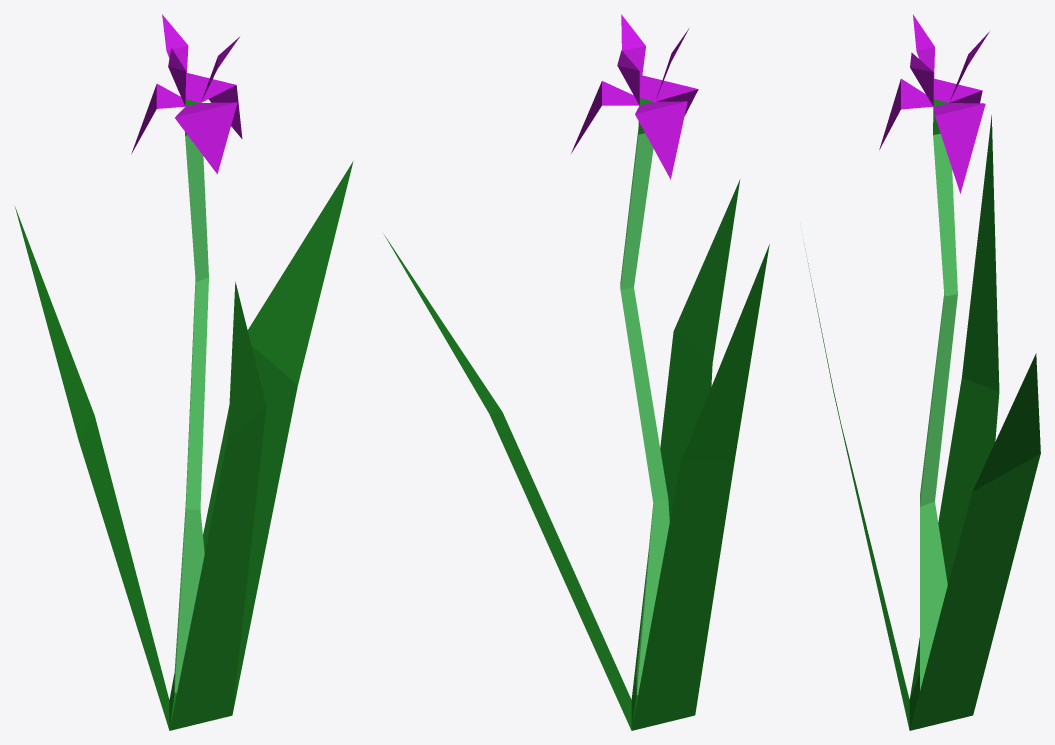
Rendered from iris.glb.
3 views of the same model, side by side, from view 1: azimuth 30°, elevation 25°; view 2: azimuth 150°, elevation 25°; view 3: azimuth 270°, elevation 25° (orthographic).
Parts seen in each view (by area): view 1: v3; view 2: v3; view 3: v3.
Boxes of the visible parts, x1,y1,x2,y2 form: v3: [15, 14, 353, 730]; v3: [384, 14, 769, 730]; v3: [803, 14, 1040, 730].
Size of the model in its own units: 0.497 by 0.8954 by 0.2865.
